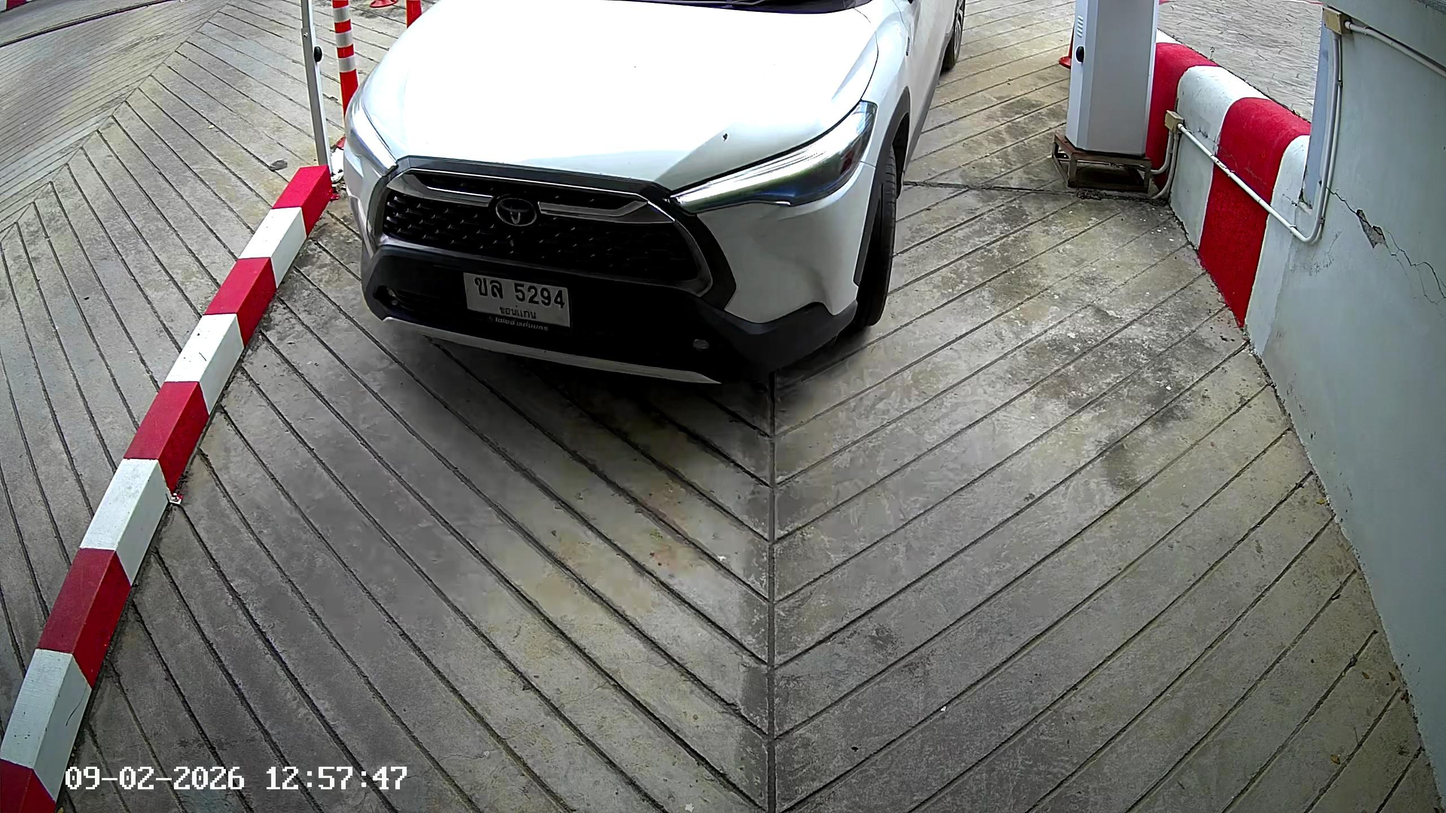car: (344, 2, 968, 383)
license-plate: (459, 263, 573, 335)
